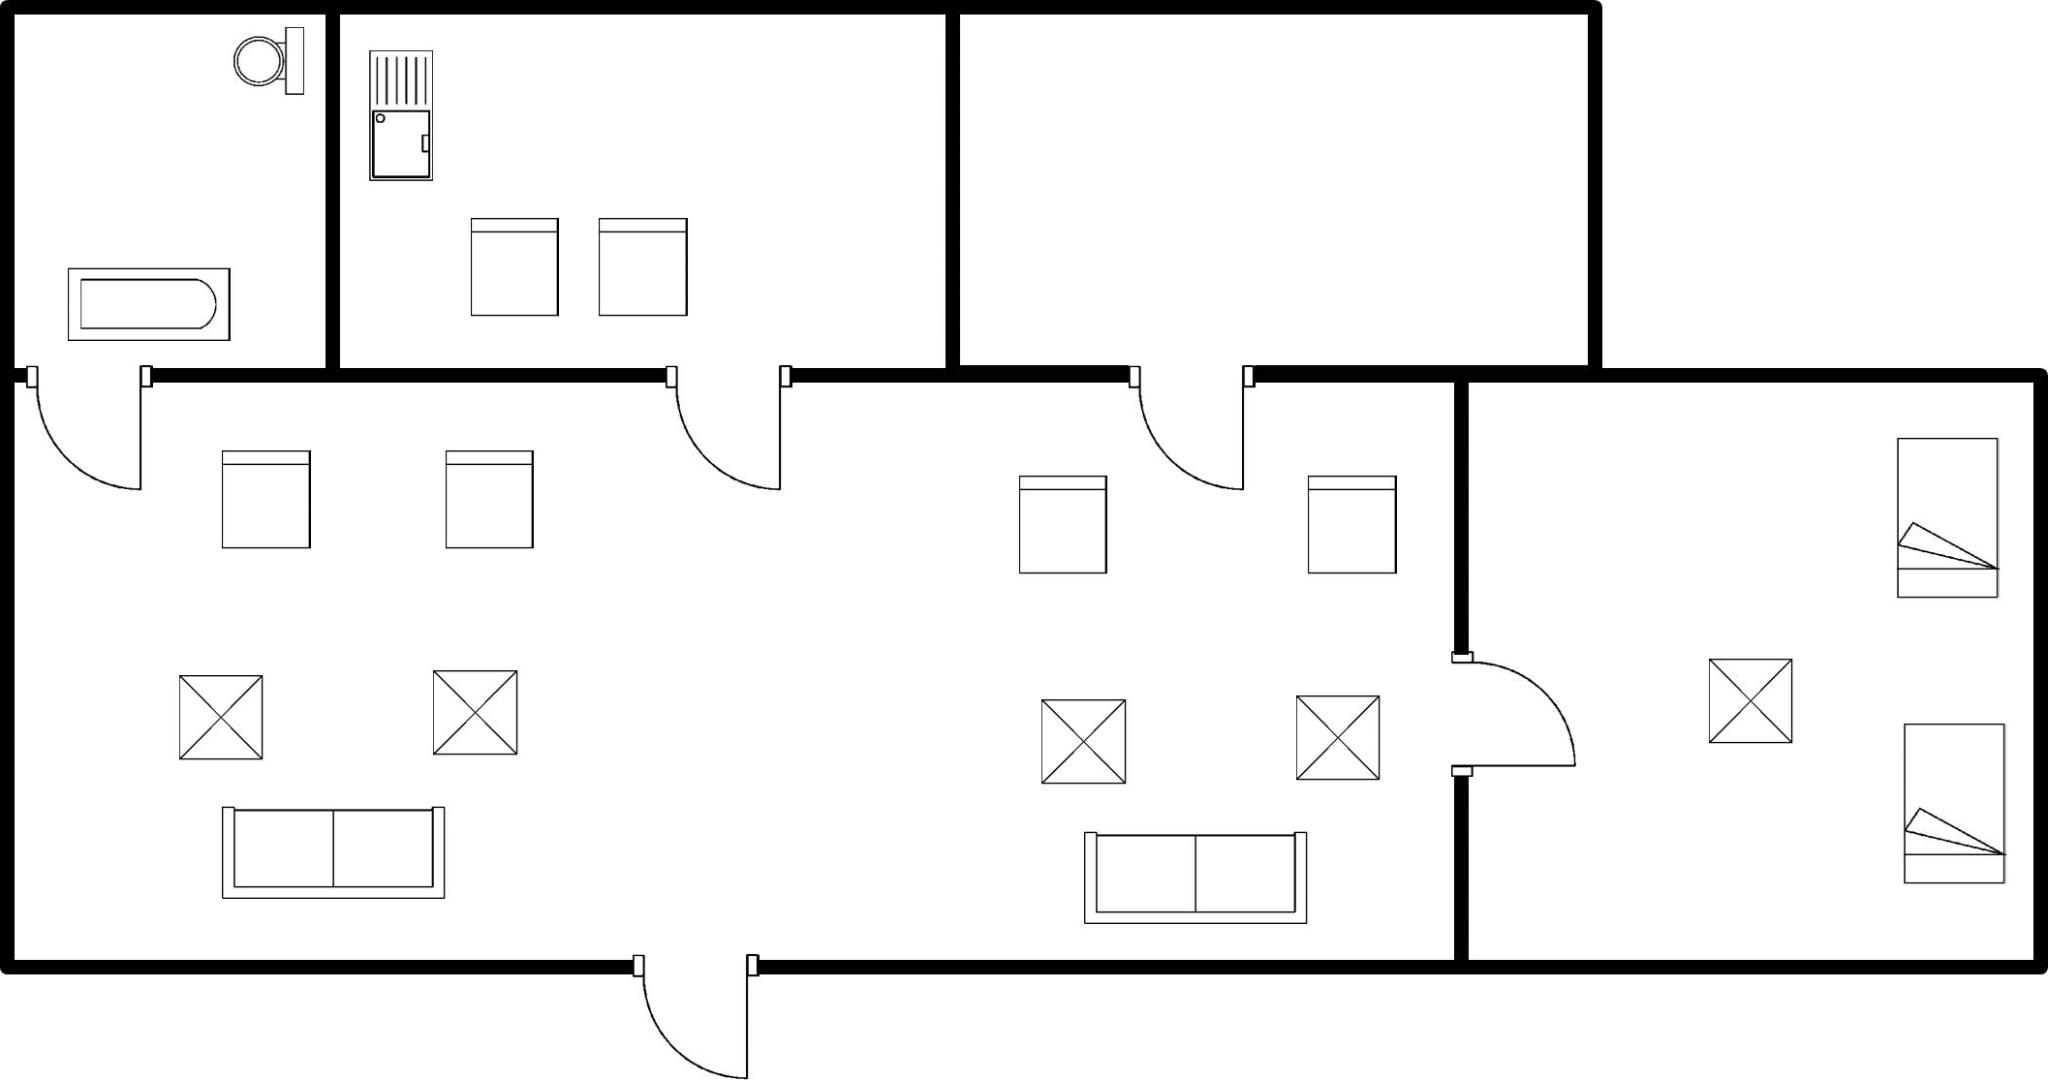bed: (1887, 425, 2014, 608), (1898, 710, 2017, 897)
sink: (363, 39, 443, 188)
sofa: (209, 793, 455, 912), (1073, 818, 1321, 930)
toilet: (226, 19, 316, 111)
tub: (58, 255, 244, 354)
